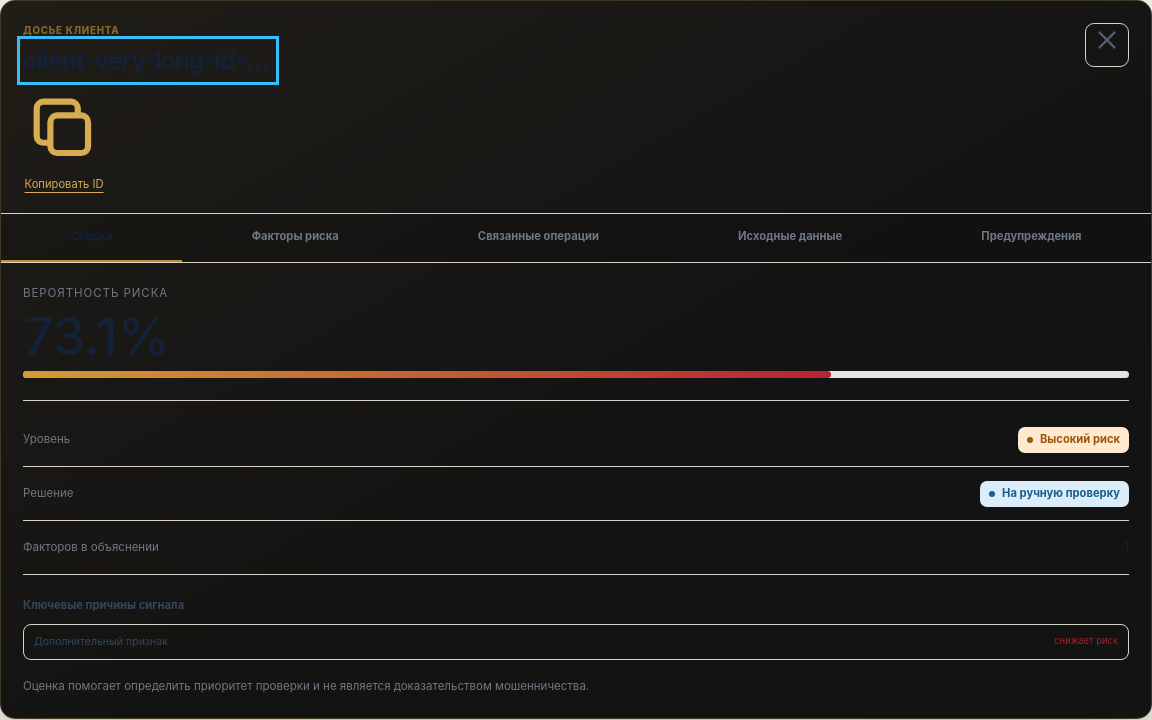
Test: RecordDetails › copies the full id and keeps neutral labels for unknown factors
The image size is (1152, 720).
Click the button "Копировать ID": x=64, y=141 [23,88,105,193]
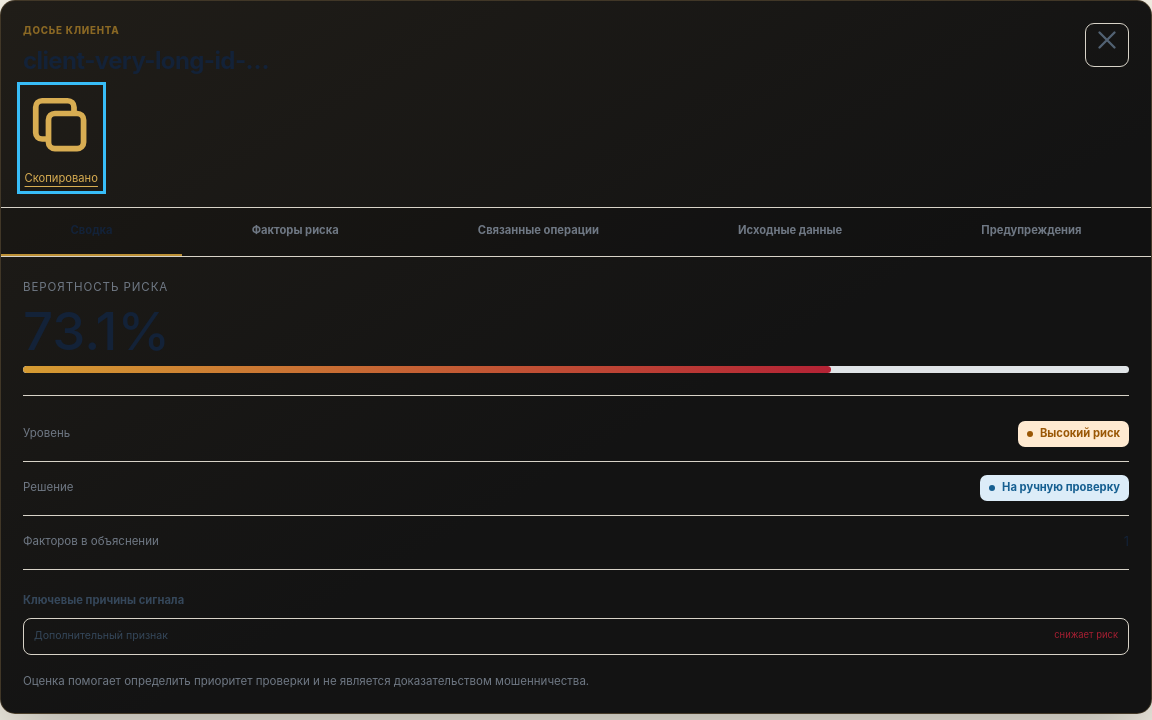
expect the button "Скопировано" is shown: met, box [23,88,100,188]
Click the tab "Факторы риска": x=295, y=232 [182,208,408,256]
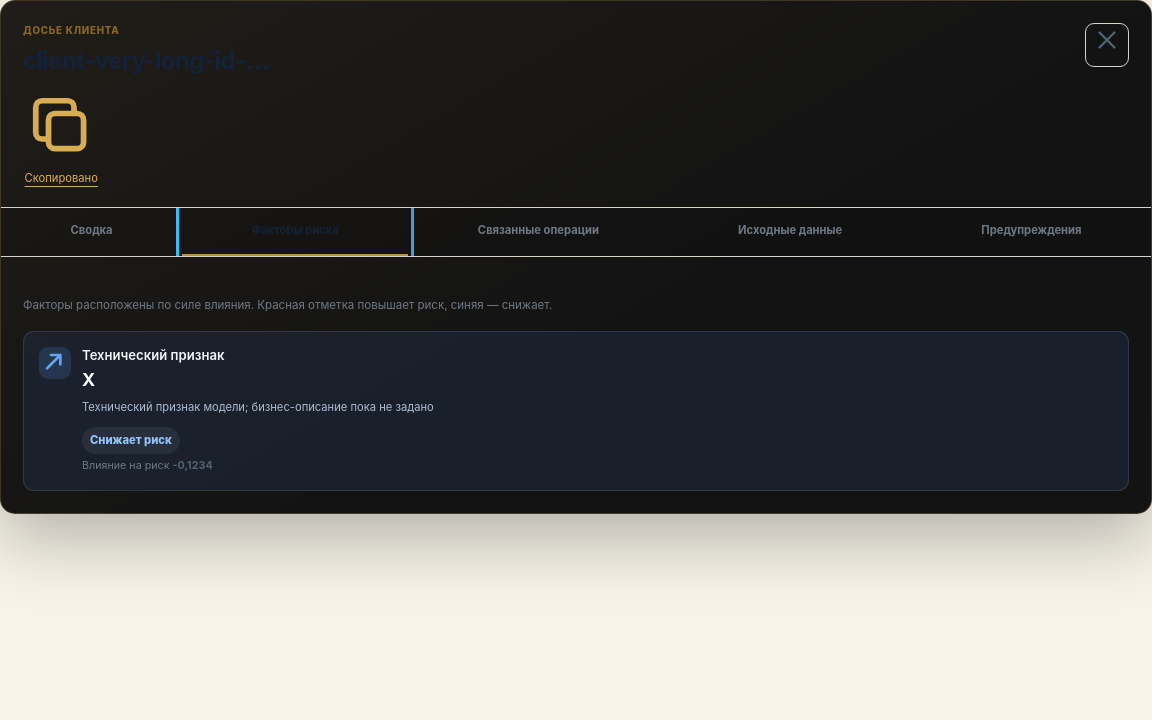
expect the text "Технический признак" is shown: met, box [82,347,224,363]
expect the text "Влияние на риск -0,1234" is shown: met, box [82,459,213,472]
expect the text "-0,1234" is shown: met, box [173,459,213,472]
